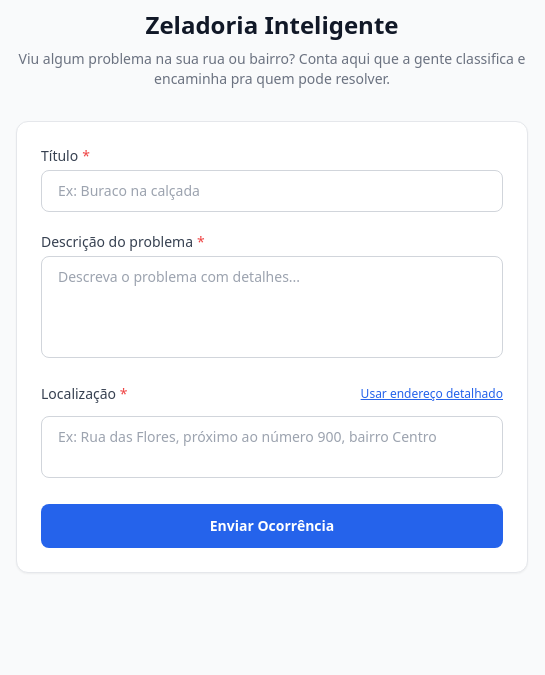
Test case: ReportPage › given the citizen switches to simple location mode › should hide address fields and show a free-text location input
This screenshot has width=545, height=675.
Click the button "Usar endereço detalhado" at (432, 394), box [361,386,503,402]
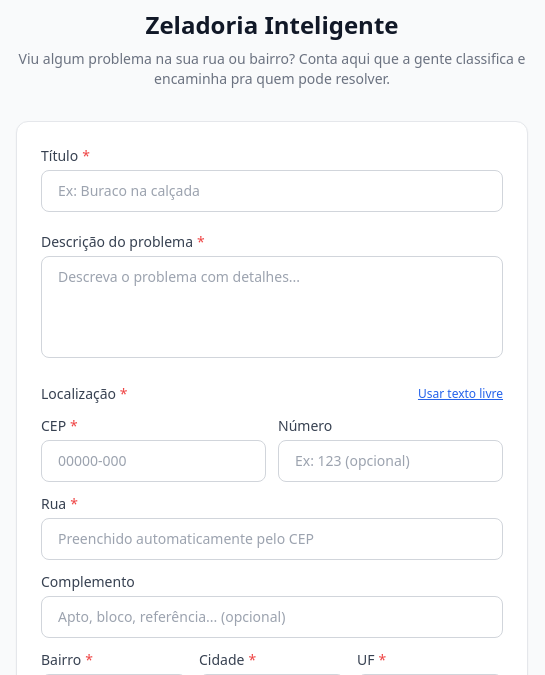
Click the button "Usar texto livre" at (460, 394), box [418,386,503,402]
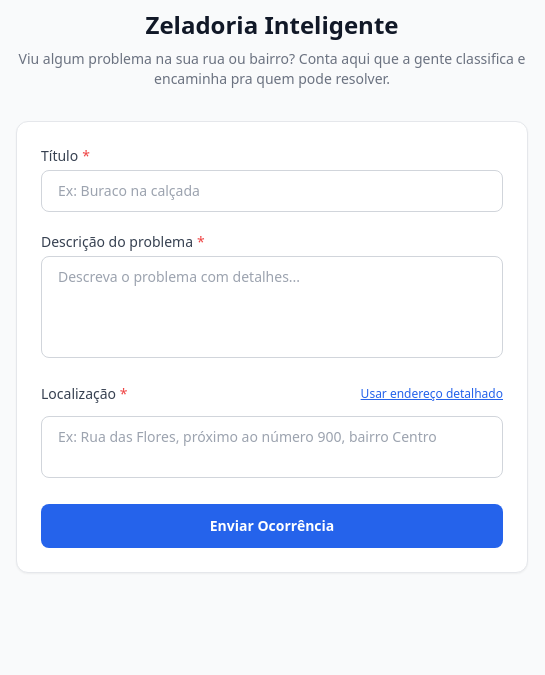
Expected: the label labelled "CEP" is gone
Expected: the text box labelled "Localização *" is shown, [41,416,503,478]
